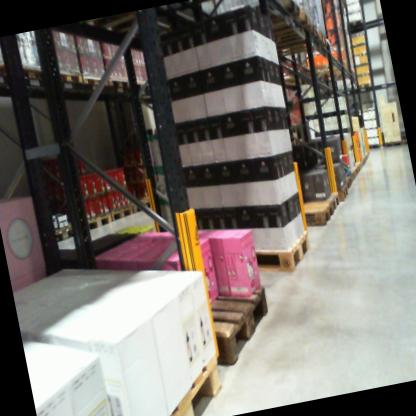pallet: (192, 251, 284, 368), (84, 0, 227, 49), (141, 346, 235, 416), (240, 221, 321, 284), (270, 31, 332, 62), (248, 0, 302, 30), (296, 192, 336, 232), (42, 216, 86, 248), (300, 57, 349, 85), (268, 7, 313, 36), (273, 21, 321, 47), (80, 208, 115, 237), (17, 57, 50, 85), (82, 69, 111, 94), (58, 65, 83, 89), (130, 191, 158, 212), (107, 71, 133, 93), (106, 203, 136, 222), (321, 188, 341, 216), (0, 45, 16, 79), (346, 9, 365, 31), (333, 184, 351, 205), (380, 137, 403, 151), (353, 78, 373, 94)
